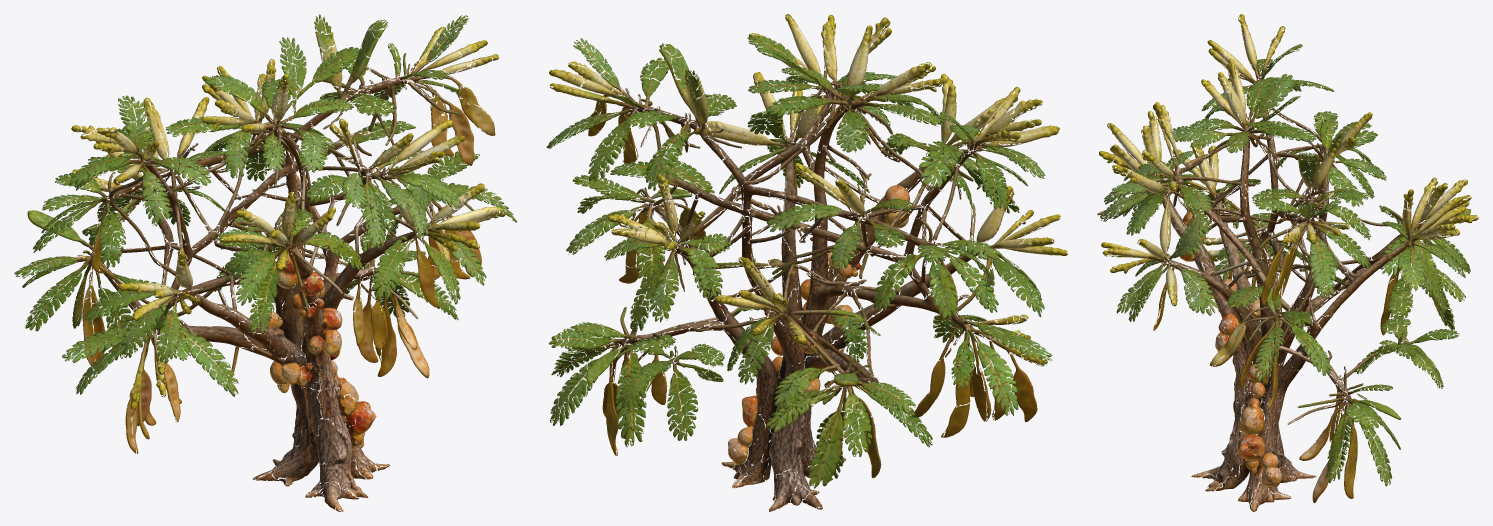
The model's file is samgh.glb.
3 views of the same model, side by side, from view 1: azimuth 30°, elevation 25°; view 2: azimuth 150°, elevation 25°; view 3: azimuth 270°, elevation 25° (orthographic). The views are drawn at different scales.
Visible parts, largest first — view 1: tripo_node_791a6844-29d9-4317-8b50-d3f3d2ecd022; view 2: tripo_node_791a6844-29d9-4317-8b50-d3f3d2ecd022; view 3: tripo_node_791a6844-29d9-4317-8b50-d3f3d2ecd022.
Boxes of the visible parts, x1=… form: tripo_node_791a6844-29d9-4317-8b50-d3f3d2ecd022: x1=14, y1=14, x2=516, y2=511; tripo_node_791a6844-29d9-4317-8b50-d3f3d2ecd022: x1=546, y1=14, x2=1067, y2=511; tripo_node_791a6844-29d9-4317-8b50-d3f3d2ecd022: x1=1097, y1=14, x2=1478, y2=511.
Bounding box in the file's own units: 0.9796 × 0.9034 × 0.8061.
1 material, 1 textured.
